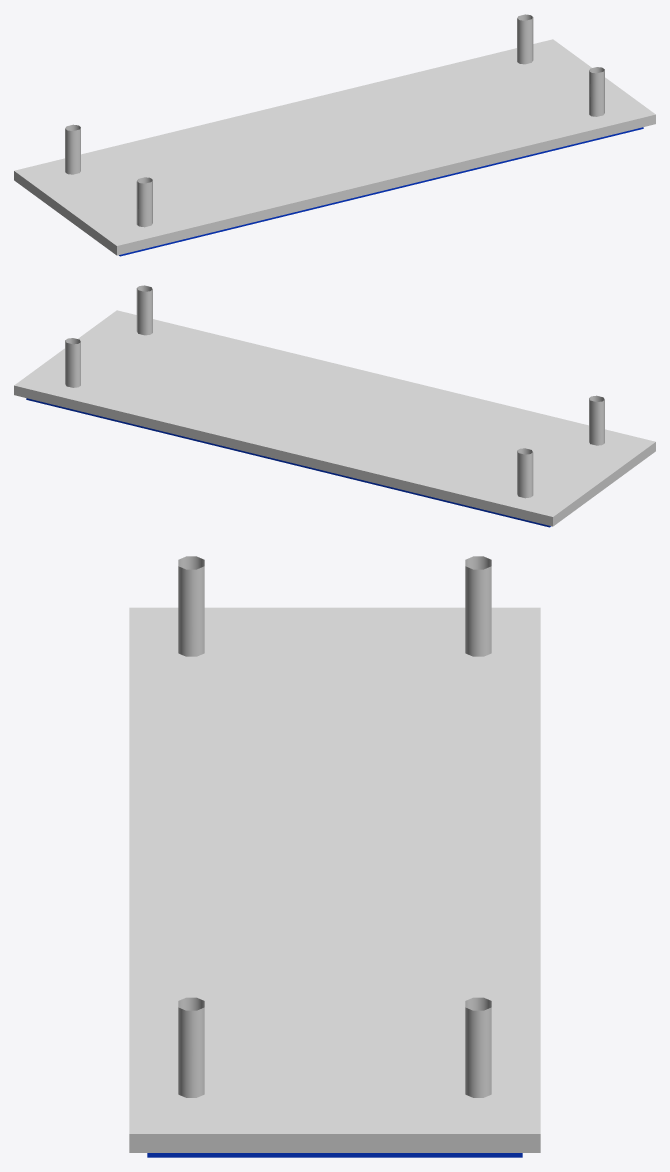
The model's file is SM_CeilingLight.fbx.
The picture shows the model from 3 angles, top to bottom: view 1: azimuth 30°, elevation 25°; view 2: azimuth 150°, elevation 25°; view 3: azimuth 270°, elevation 25°; orthographic projection. The views are drawn at different scales.
Parts seen in each view (by area): view 1: Cube; view 2: Cube; view 3: Cube.
Boxes of the visible parts, x1,y1,x2,y2 form: Cube: [14, 14, 655, 256]; Cube: [14, 285, 655, 527]; Cube: [129, 556, 540, 1157].
Size of the model in its own units: 660 by 69.38 by 218.
